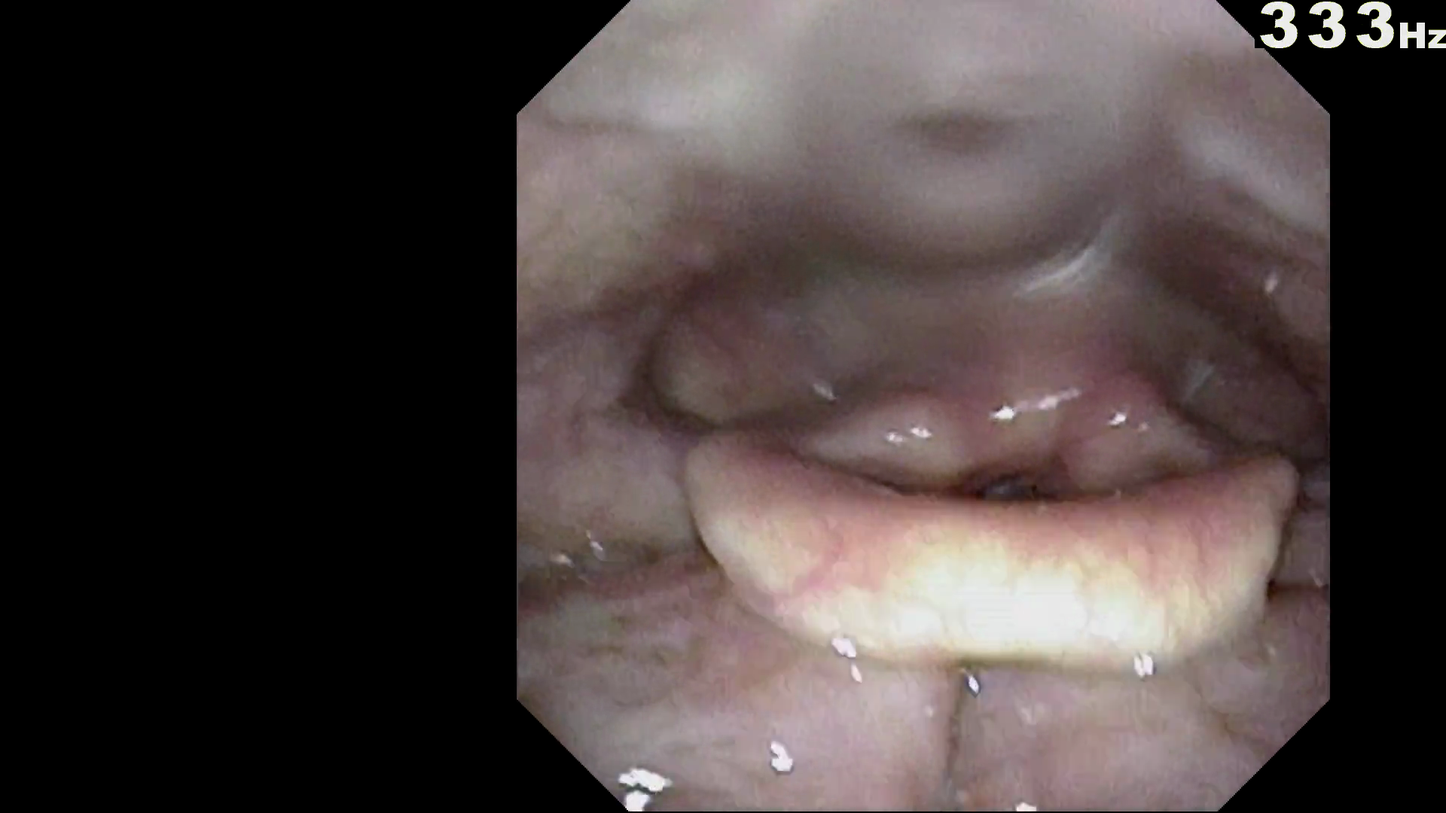epiglottis: (679, 441, 1287, 665)
trachea: (970, 487, 1033, 548)
